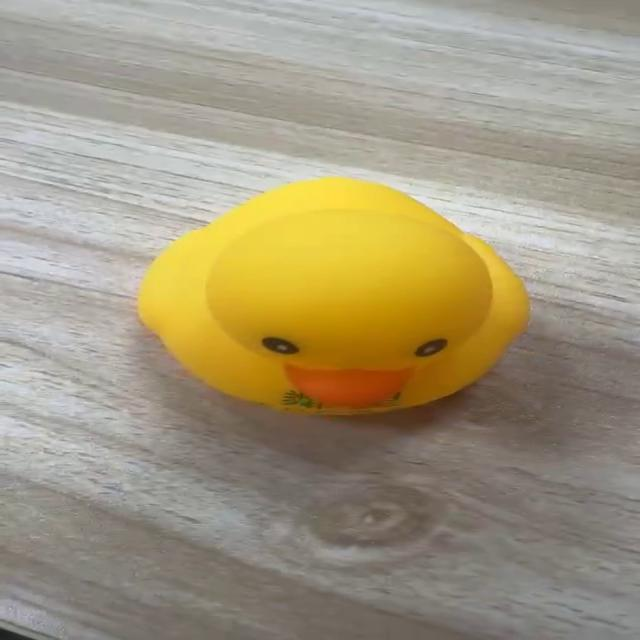yellow_duck: (134, 175, 531, 417)
